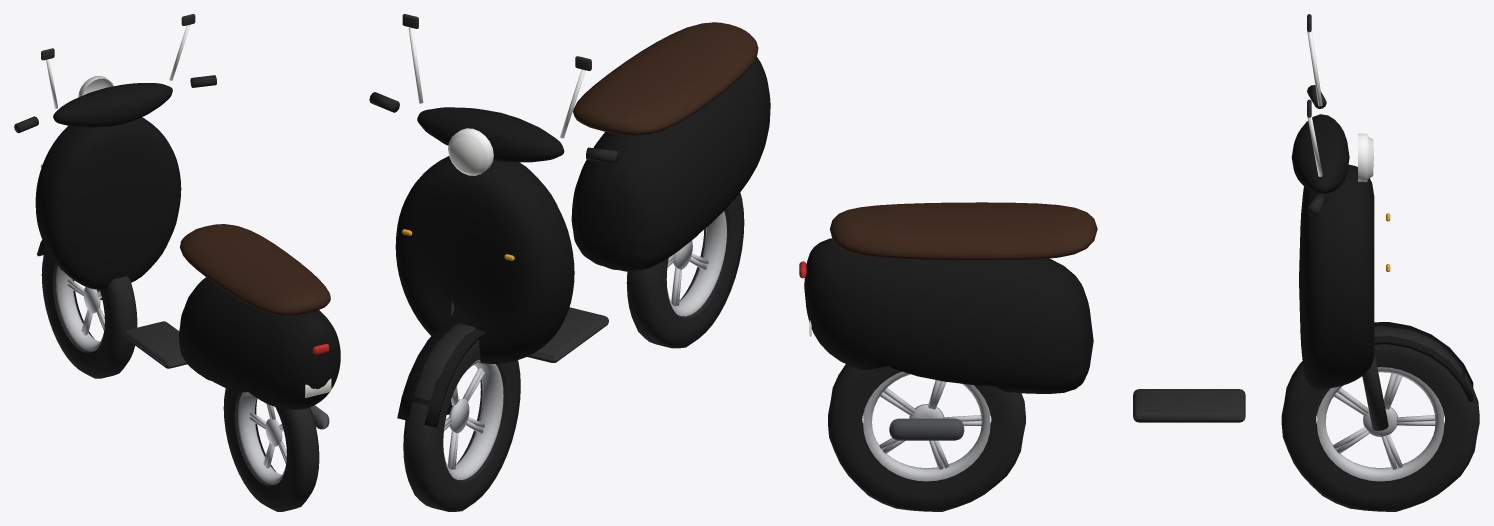
Rendered from scooter_1.glb.
3 views of the same model, side by side, from view 1: azimuth 30°, elevation 25°; view 2: azimuth 150°, elevation 25°; view 3: azimuth 270°, elevation 25° (orthographic). The views are drawn at different scales.
Visible parts, largest first — view 1: body, wheel_1, wheel_0; view 2: body, wheel_0, wheel_1; view 3: body, wheel_0, wheel_1.
Part boxes in pixels (bbox=[...]): body: bbox=[14, 14, 340, 429]; wheel_1: bbox=[223, 388, 319, 511]; wheel_0: bbox=[41, 248, 137, 378]; body: bbox=[369, 14, 770, 427]; wheel_0: bbox=[403, 323, 520, 511]; wheel_1: bbox=[626, 192, 744, 348]; body: bbox=[799, 14, 1473, 440]; wheel_0: bbox=[1281, 325, 1479, 511]; wheel_1: bbox=[828, 364, 1025, 511].
Size of the model in its own units: 0.7682 by 1.32 by 1.81.
